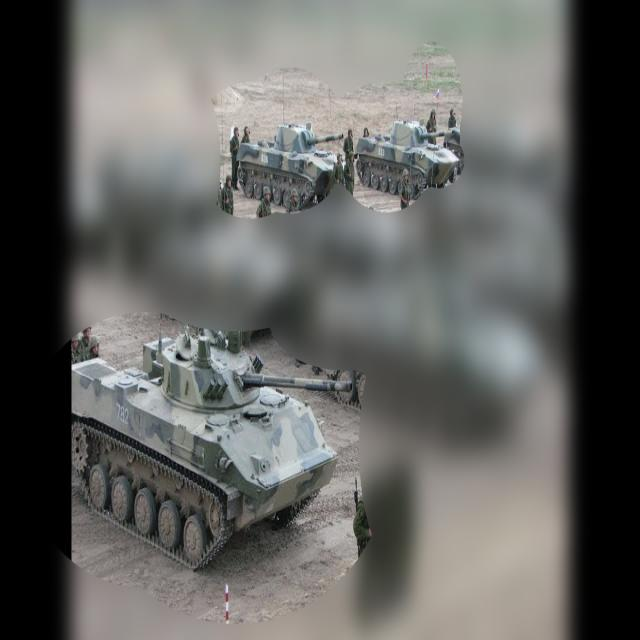tank: (71, 316, 355, 574), (237, 120, 341, 218), (356, 113, 460, 207)
